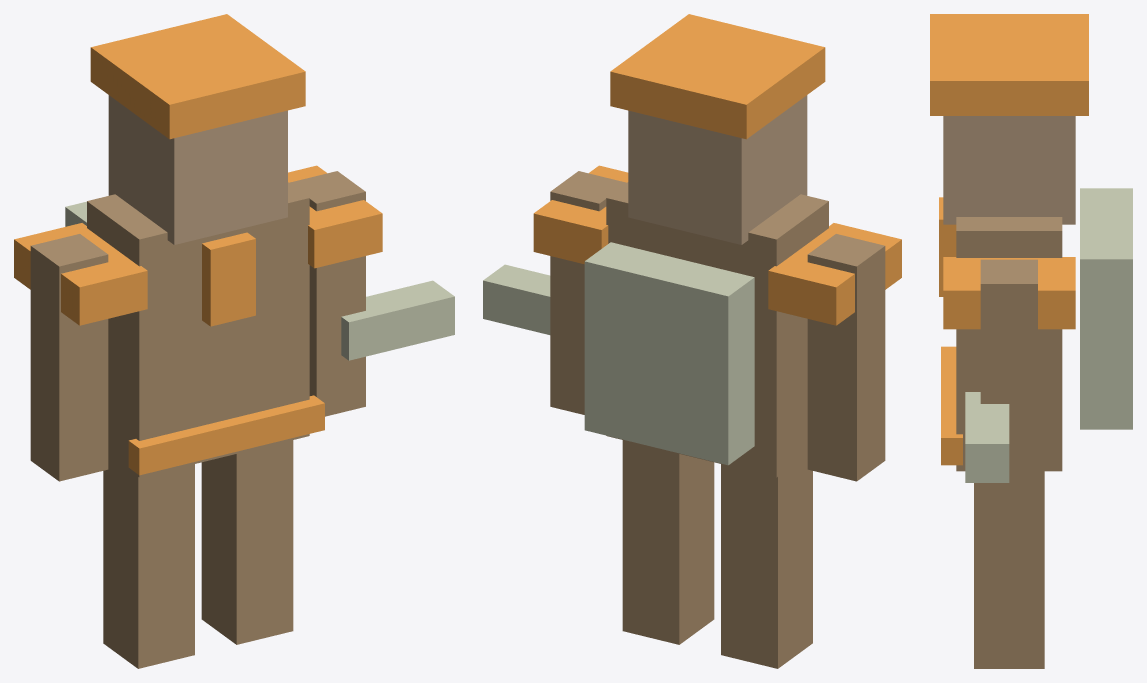
File: 05_asha_ironwake_specialist_near_waystation.glb
3 renders of one model, left to right at view 1: azimuth 30°, elevation 25°; view 2: azimuth 150°, elevation 25°; view 3: azimuth 270°, elevation 25°, orthographic.
Parts seen in each view (by area): view 1: Asha Ironwake, Specialist near Waystation; view 2: Asha Ironwake, Specialist near Waystation; view 3: Asha Ironwake, Specialist near Waystation.
Part boxes in pixels (box(x1,y1,x2,y2)): Asha Ironwake, Specialist near Waystation: box(14, 14, 454, 668); Asha Ironwake, Specialist near Waystation: box(483, 14, 901, 668); Asha Ironwake, Specialist near Waystation: box(930, 14, 1132, 668).
Bounding box in the file's own units: 1.1 × 1.57 × 0.4956.
